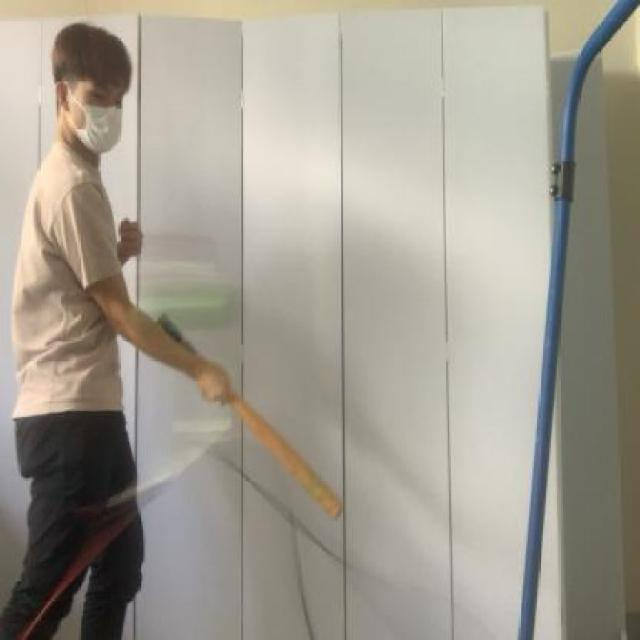baseball: (142, 264, 245, 338)
